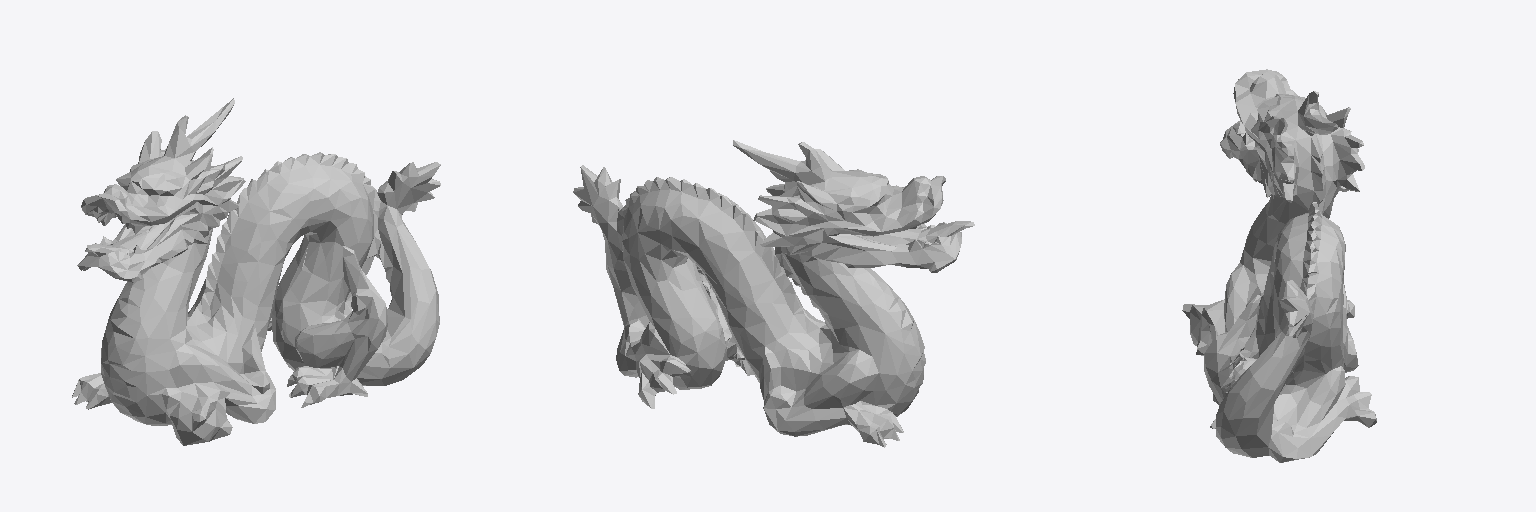
The model's file is dragonSimple.obj.
3 renders of one model, left to right at view 1: azimuth 30°, elevation 25°; view 2: azimuth 150°, elevation 25°; view 3: azimuth 270°, elevation 25°, orthographic.
Parts seen in each view (by area): view 1: default; view 2: default; view 3: default.
Part boxes in pixels (bbox=[...]): default: bbox=[72, 98, 440, 445]; default: bbox=[573, 140, 974, 447]; default: bbox=[1182, 69, 1376, 462].
Bounding box in the file's own units: 14.09 × 9.93 × 6.29.